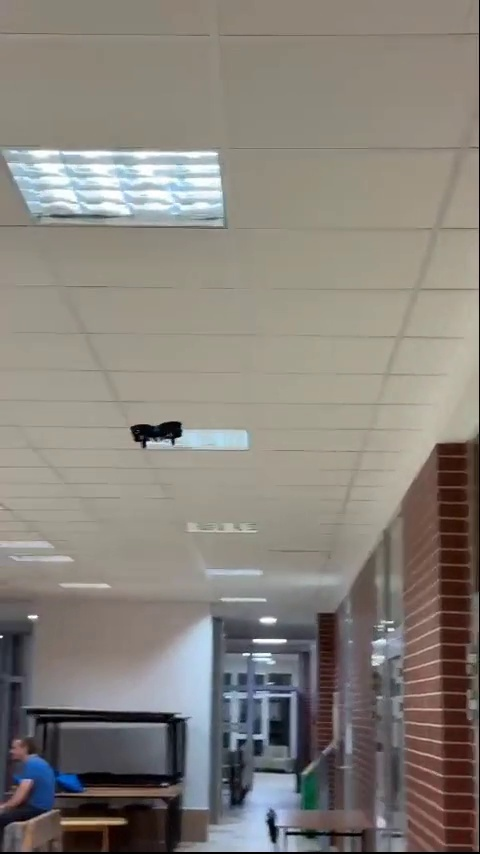drone: (129, 419, 185, 446)
no vest: (0, 724, 59, 820)
